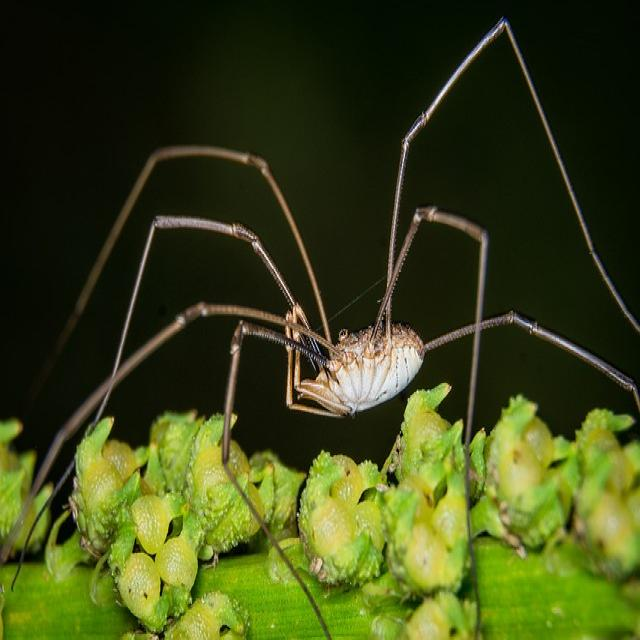spyder: (32, 146, 640, 530), (394, 20, 640, 335)
